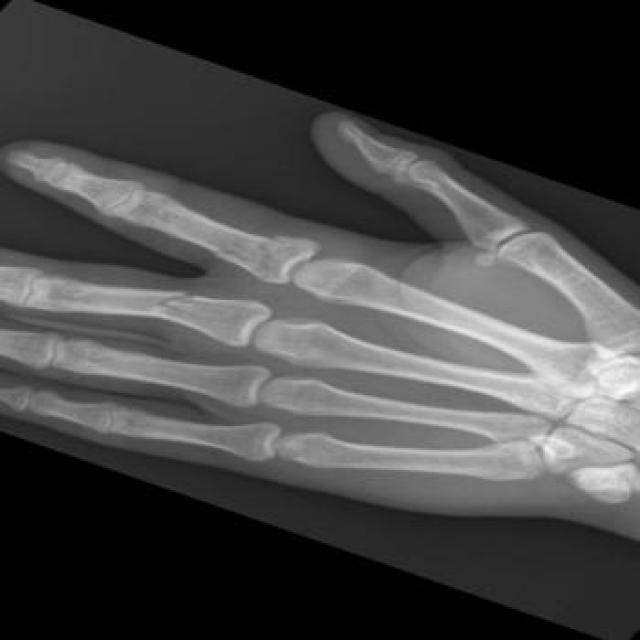Fracture: (139, 284, 219, 326)
